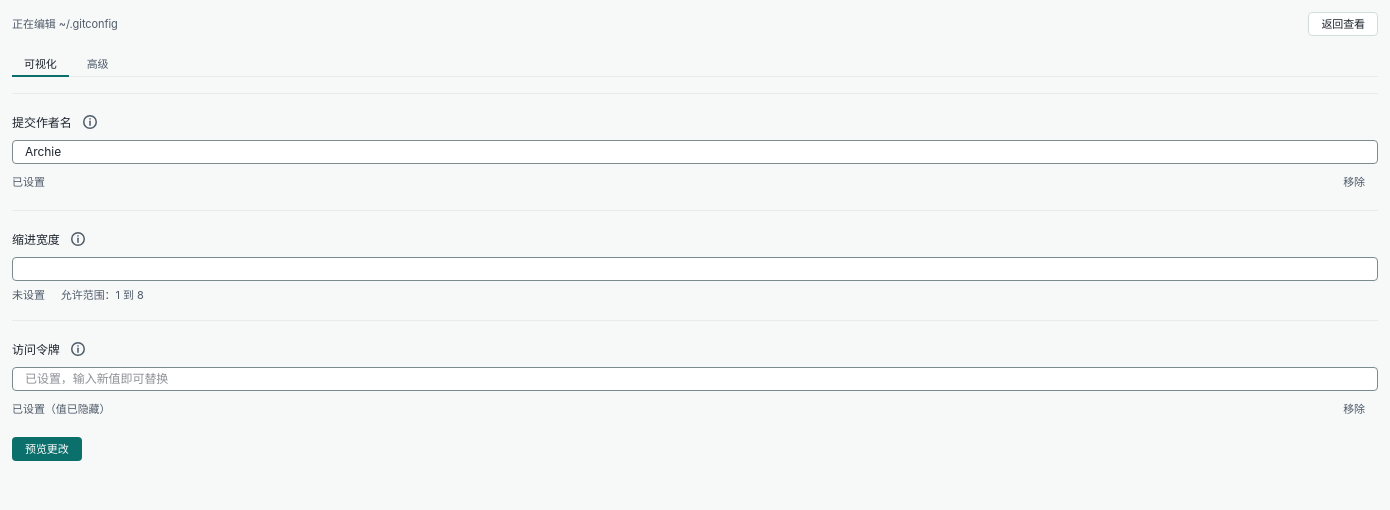
AppConfigEditor 高级模式 › keeps a clean tab's draft across switches without asking
Expected: the button "预览更改" is shown, [12,437,82,461]
What coordinates should you click on to do the following:
click the tab "高级"
I would click on:
 (98, 64)
Its box is [75,52,120,76].
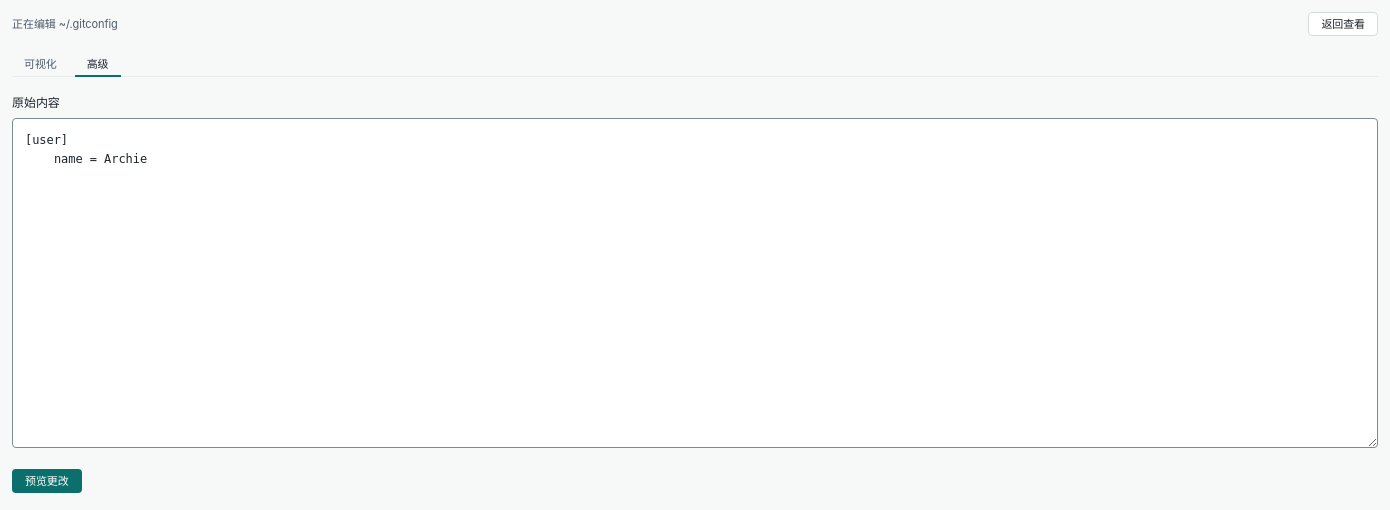
Result: the text box labelled "原始内容" is shown
